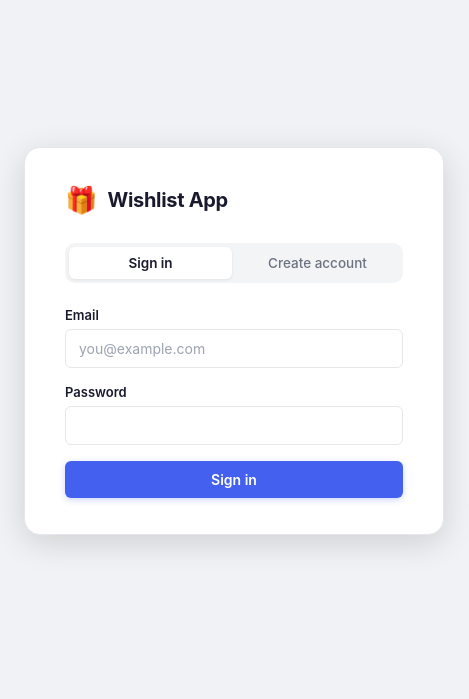
Test: AuthPage client-side validation › shows error when passwords do not match
Click the button "Create account" at coordinates (318, 263), box [236,247,399,279]
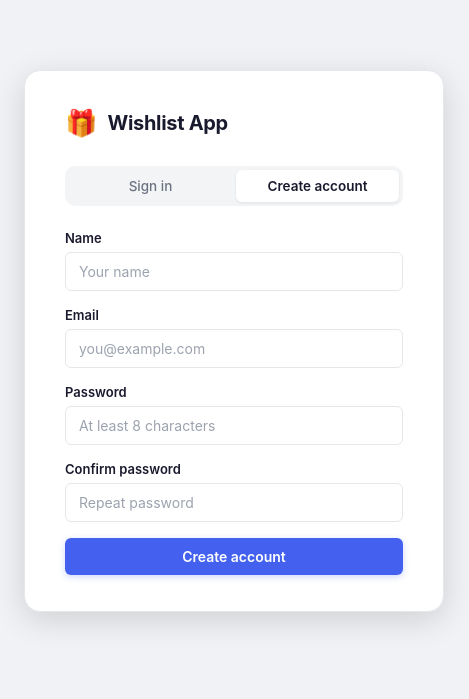
Type "Alice" into the field labelled "Name" at coordinates (234, 272), box [65,252,403,291]
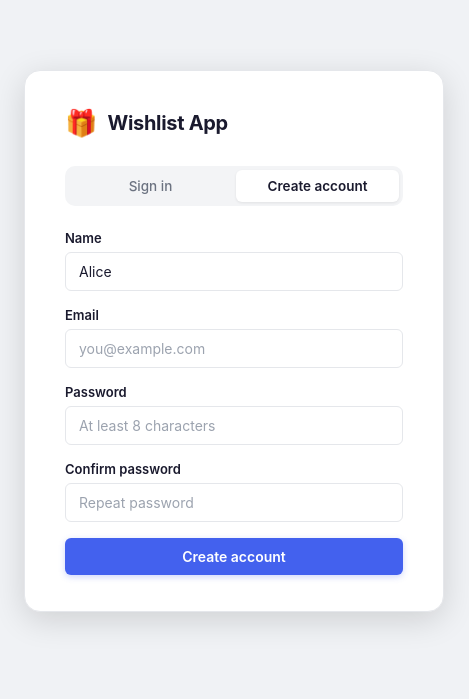
Type "a@b.com" into the field labelled "Email" at coordinates (234, 348), box [65,329,403,368]
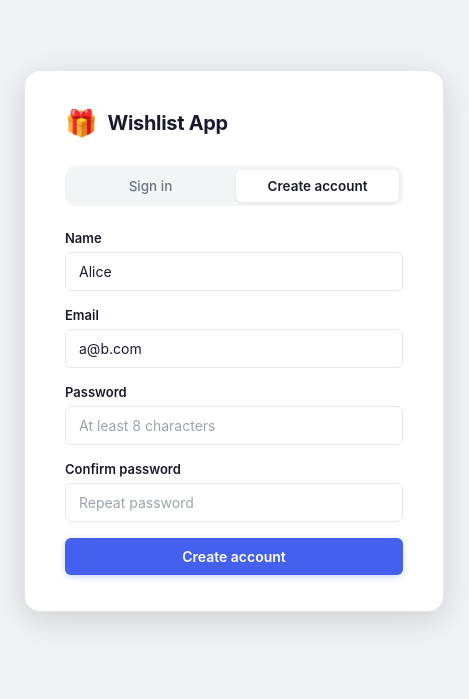
Type "password123" into the password field labelled "Password" at coordinates (234, 426), box [65,406,403,445]
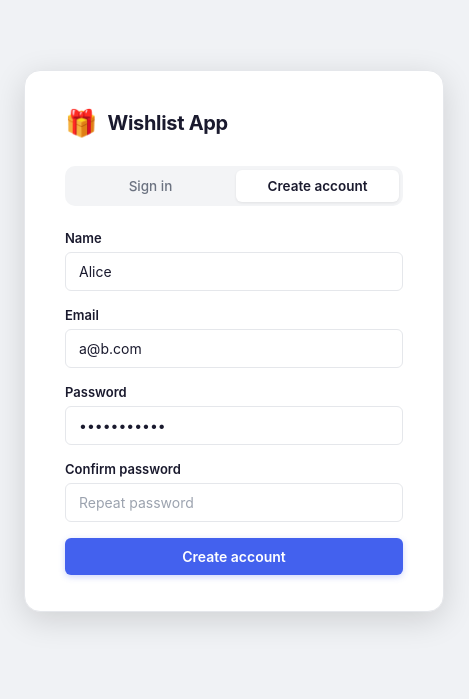
Type "different" into the password field labelled "Confirm password" at coordinates (234, 502), box [65,483,403,522]
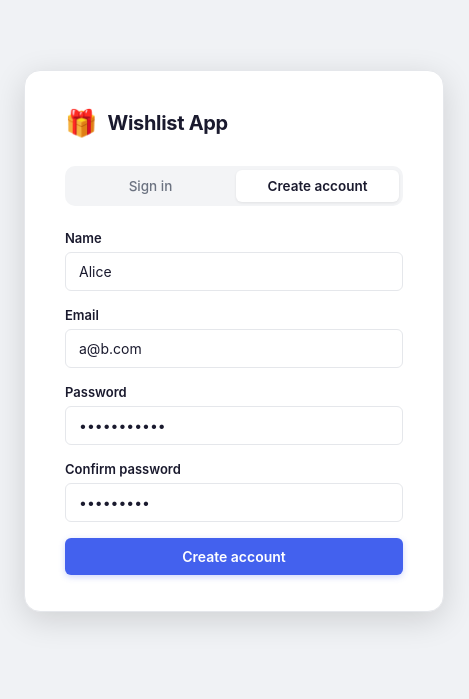
Submit the form, box [65,230,403,575]
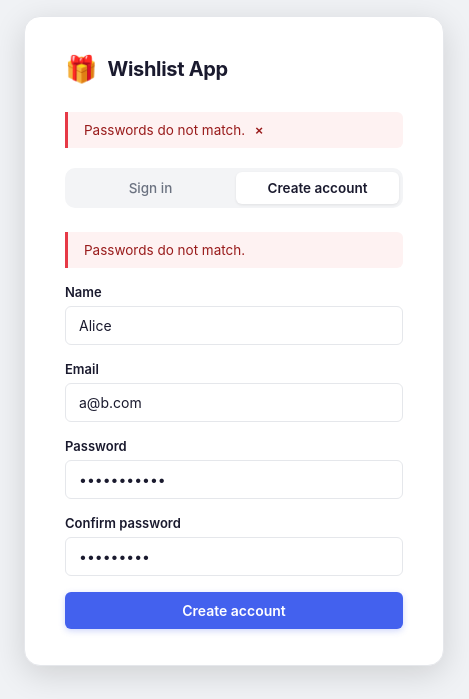
Check: the text "Passwords do not match. ×" is shown, box [65,112,403,148]
